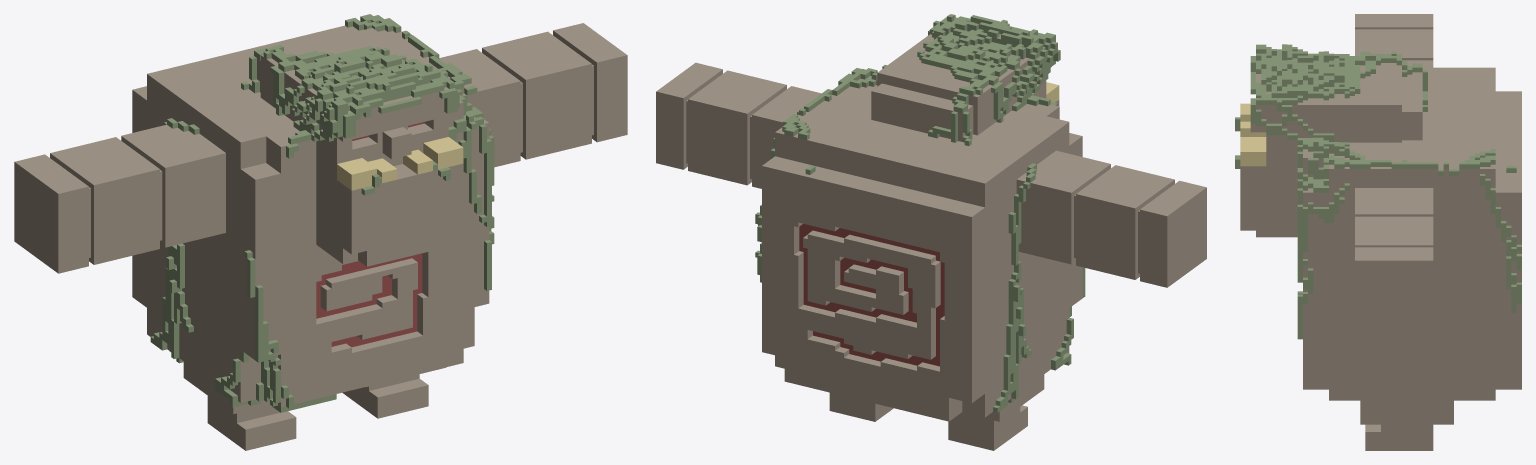
The model's file is Golem.obj.
The picture shows the model from 3 angles, left to right: view 1: azimuth 30°, elevation 25°; view 2: azimuth 150°, elevation 25°; view 3: azimuth 270°, elevation 25°; orthographic projection. The views are drawn at different scales.
Bounding box in the file's own units: 11.2 × 7.3 × 5.5.
1 material, 1 textured.
